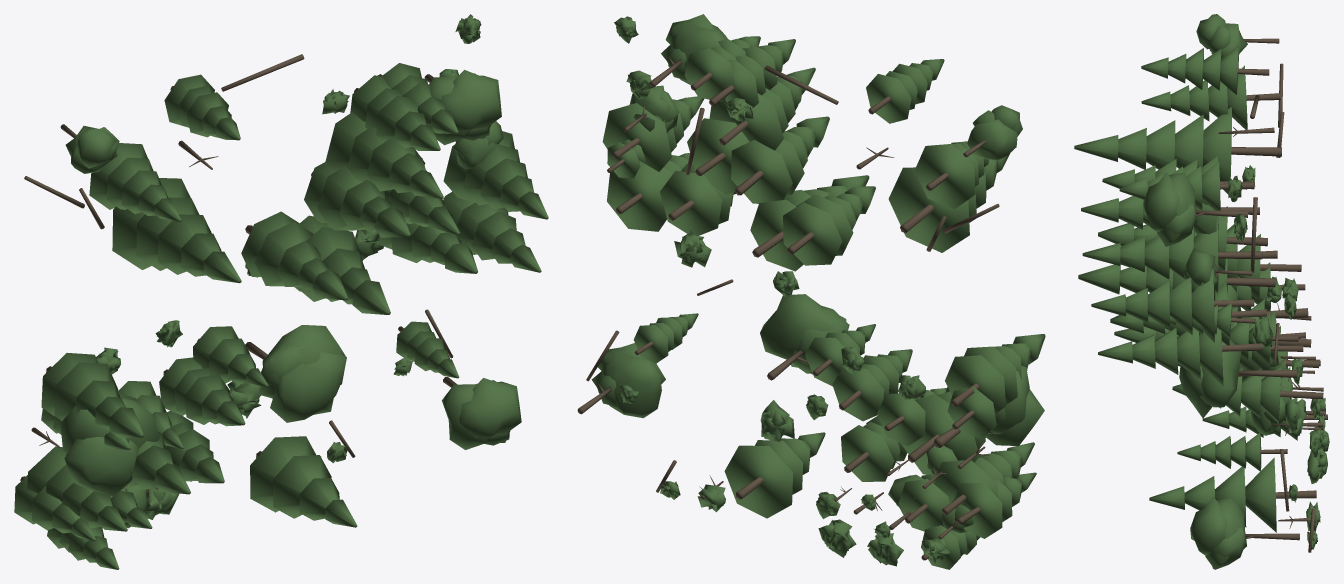
The model's file is batch_VEG_n002_p004.glb.
3 renders of one model, left to right at view 1: azimuth 30°, elevation 25°; view 2: azimuth 150°, elevation 25°; view 3: azimuth 270°, elevation 25°, orthographic. The views are drawn at different scales.
Visible parts, largest first — view 1: SAR_Tree_0450.001; view 2: SAR_Tree_0450.001; view 3: SAR_Tree_0450.001.
Part boxes in pixels (x1,y1,x2,y2): SAR_Tree_0450.001: [14, 14, 548, 569]; SAR_Tree_0450.001: [577, 14, 1045, 569]; SAR_Tree_0450.001: [1074, 14, 1329, 569].
Size of the model in its own units: 54.69 by 53.57 by 28.83.
